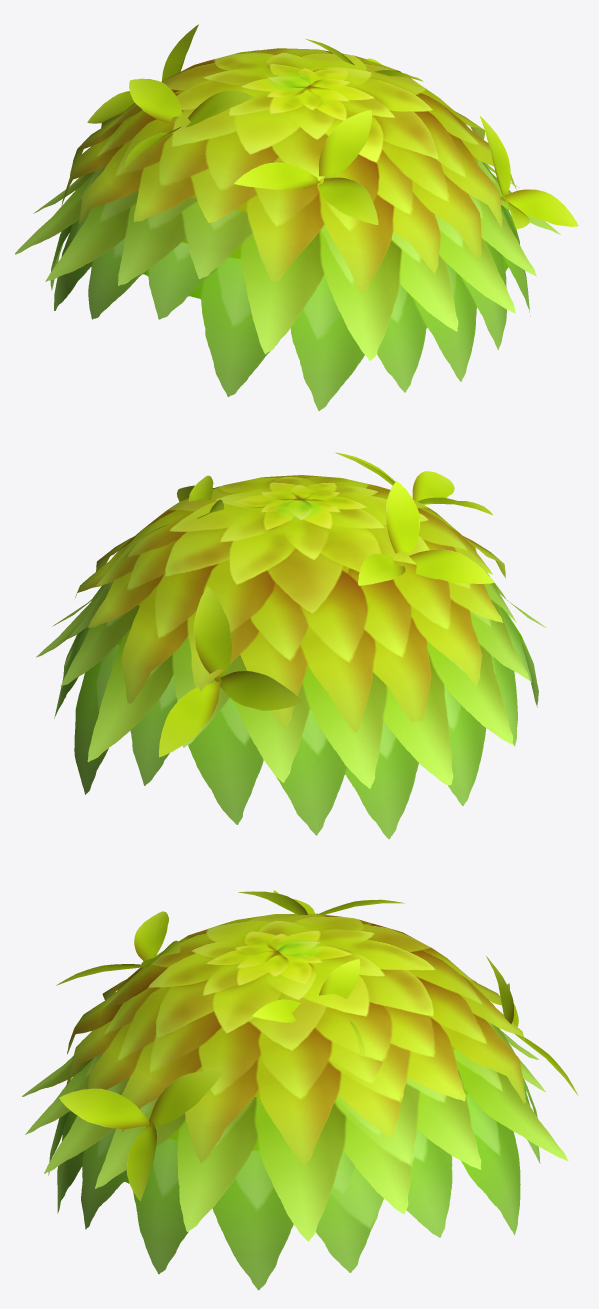
The model's file is Bush_3.fbx.
3 renders of one model, top to bottom at view 1: azimuth 30°, elevation 25°; view 2: azimuth 150°, elevation 25°; view 3: azimuth 270°, elevation 25°, orthographic. The views are drawn at different scales.
Visible parts, largest first — view 1: pPlane9; view 2: pPlane9; view 3: pPlane9.
Boxes of the visible parts, bbox=[...] form: pPlane9: bbox=[15, 24, 578, 410]; pPlane9: bbox=[36, 452, 546, 839]; pPlane9: bbox=[22, 890, 577, 1290].
Bounding box in the file's own units: 226 × 120 × 226.
1 material, 1 textured.
